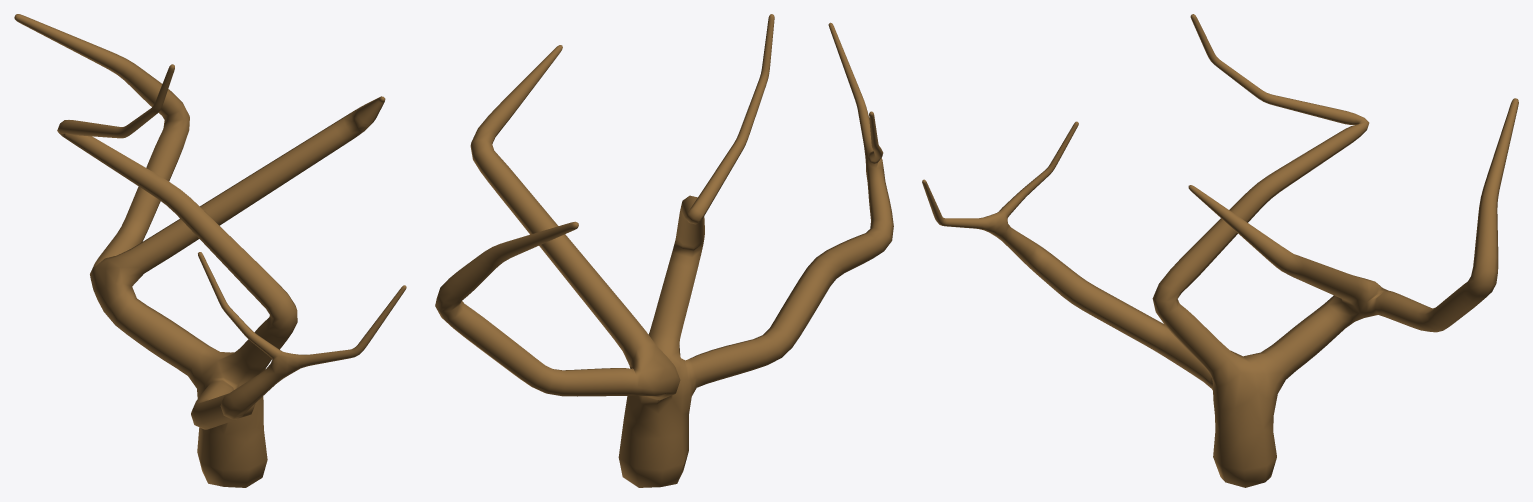
The model's file is koraaloranje.fbx.
The picture shows the model from 3 angles, left to right: view 1: azimuth 30°, elevation 25°; view 2: azimuth 150°, elevation 25°; view 3: azimuth 270°, elevation 25°; orthographic projection. The views are drawn at different scales.
Parts seen in each view (by area): view 1: Vert; view 2: Vert; view 3: Vert.
Boxes of the visible parts, x1,y1,x2,y2 form: Vert: [14, 14, 406, 487]; Vert: [435, 14, 893, 487]; Vert: [922, 14, 1518, 487].
Size of the model in its own units: 7314 by 11471 by 14436.
